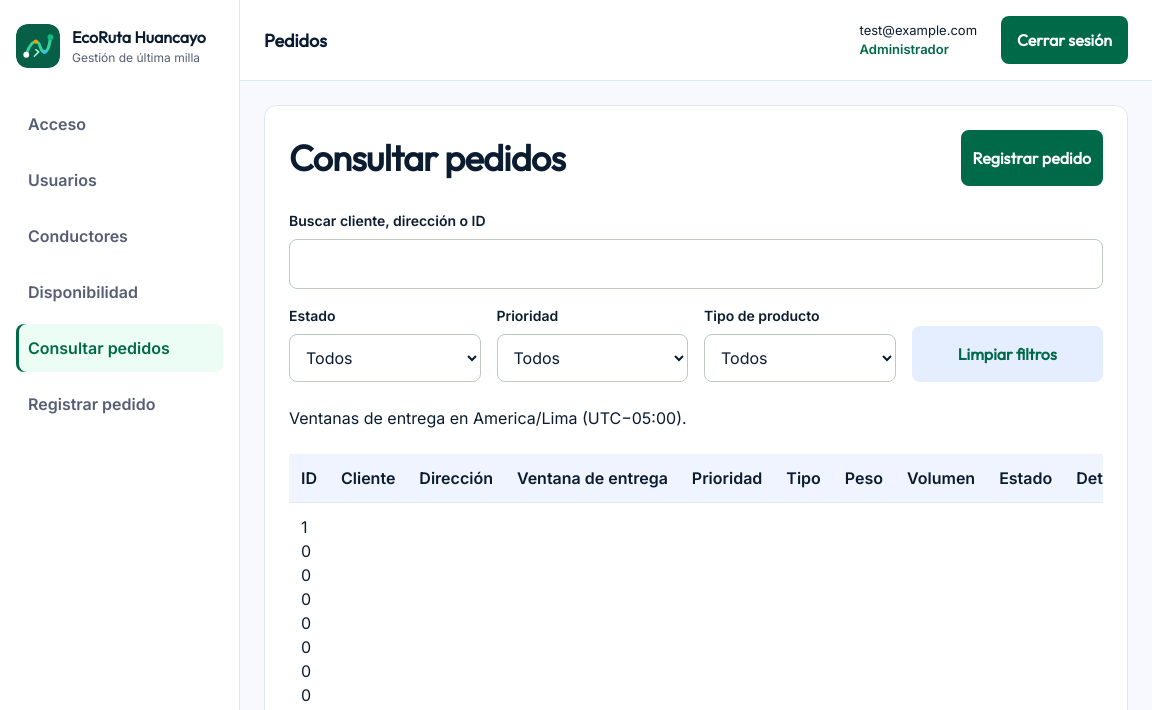
it: búsqueda con debounce, filtros combinados y limpiar filtros
The width and height of the screenshot is (1152, 710).
Type "Mantaro" into the search field labelled "Buscar cliente, dirección o ID" at x=696, y=264, box [289, 239, 1103, 289]
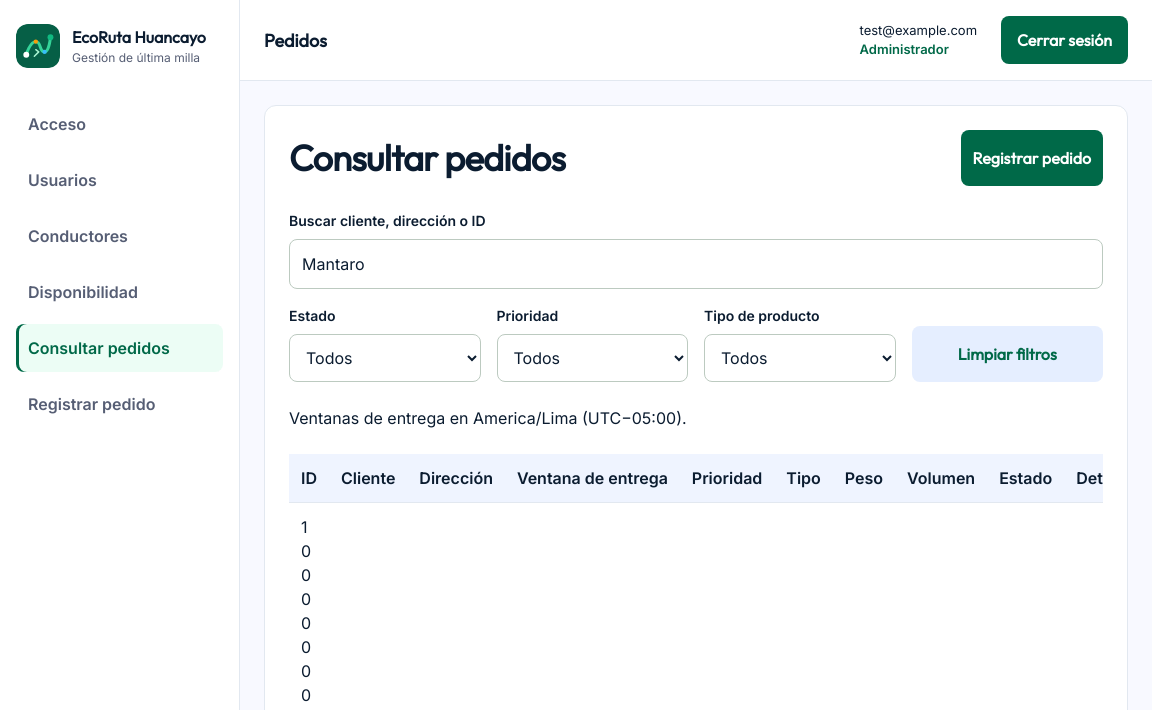
Select "Pendiente" in the dropdown labelled "Estado" at x=385, y=358, box [289, 334, 480, 382]
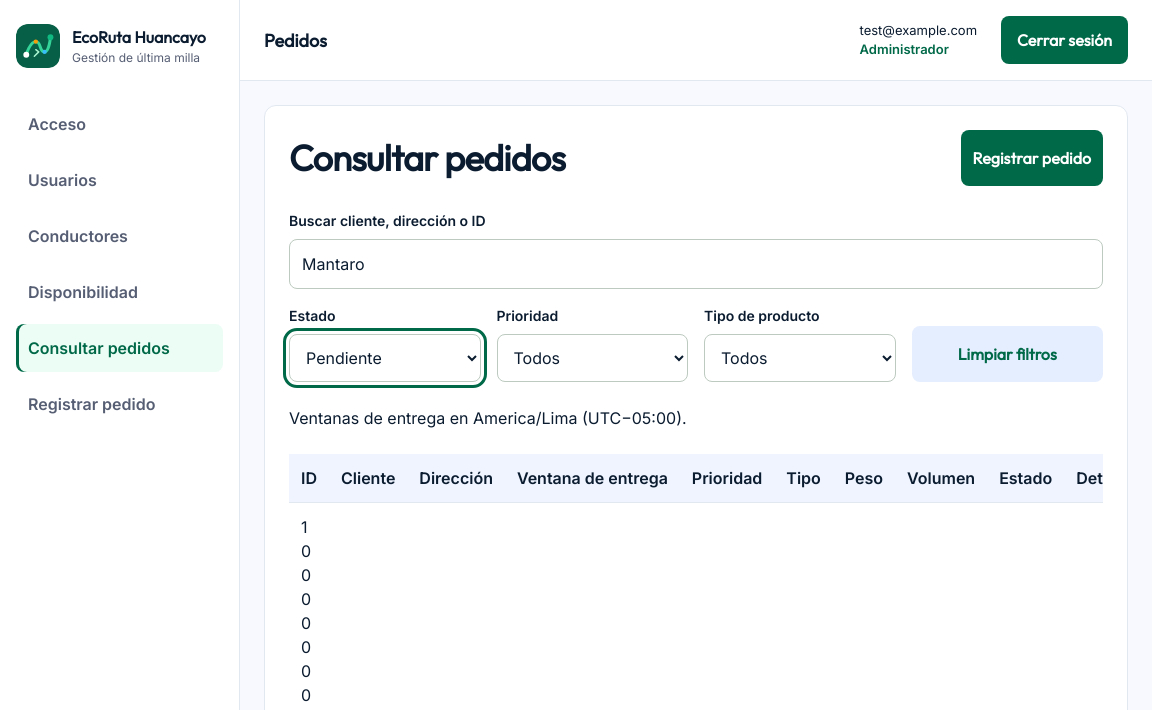
Select "Estándar" in the dropdown labelled "Prioridad" at x=592, y=358, box [496, 334, 688, 382]
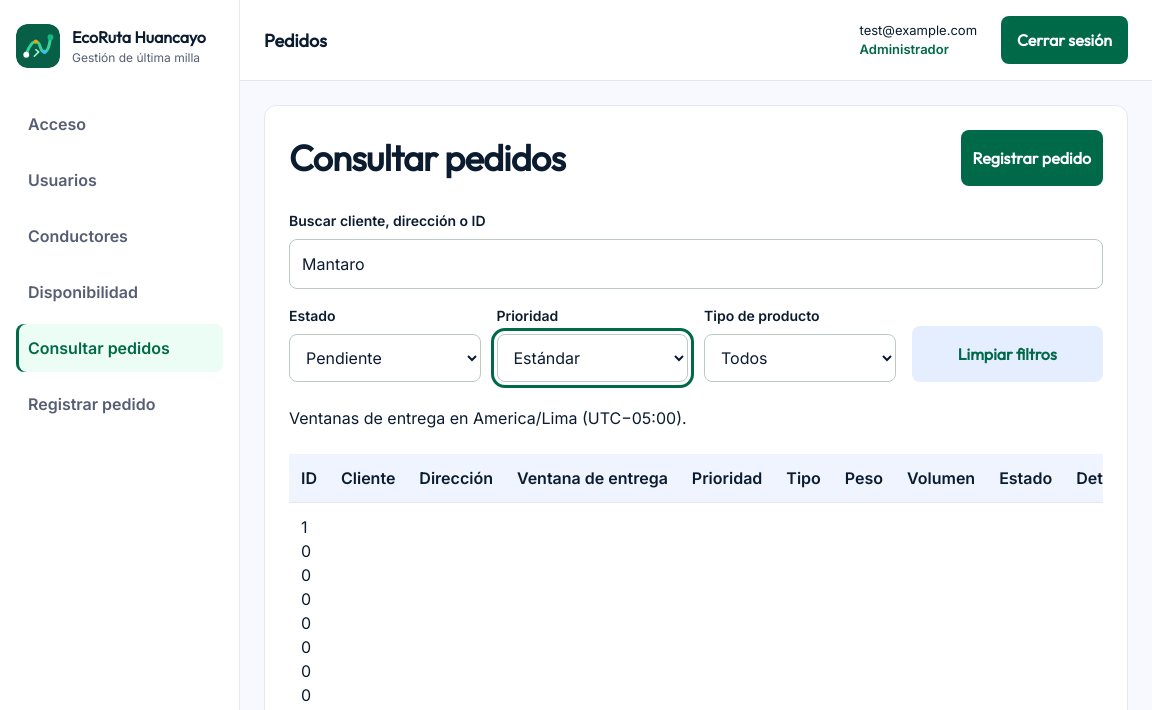
Select "No perecedero" in the dropdown labelled "Tipo de producto" at x=800, y=358, box [704, 334, 896, 382]
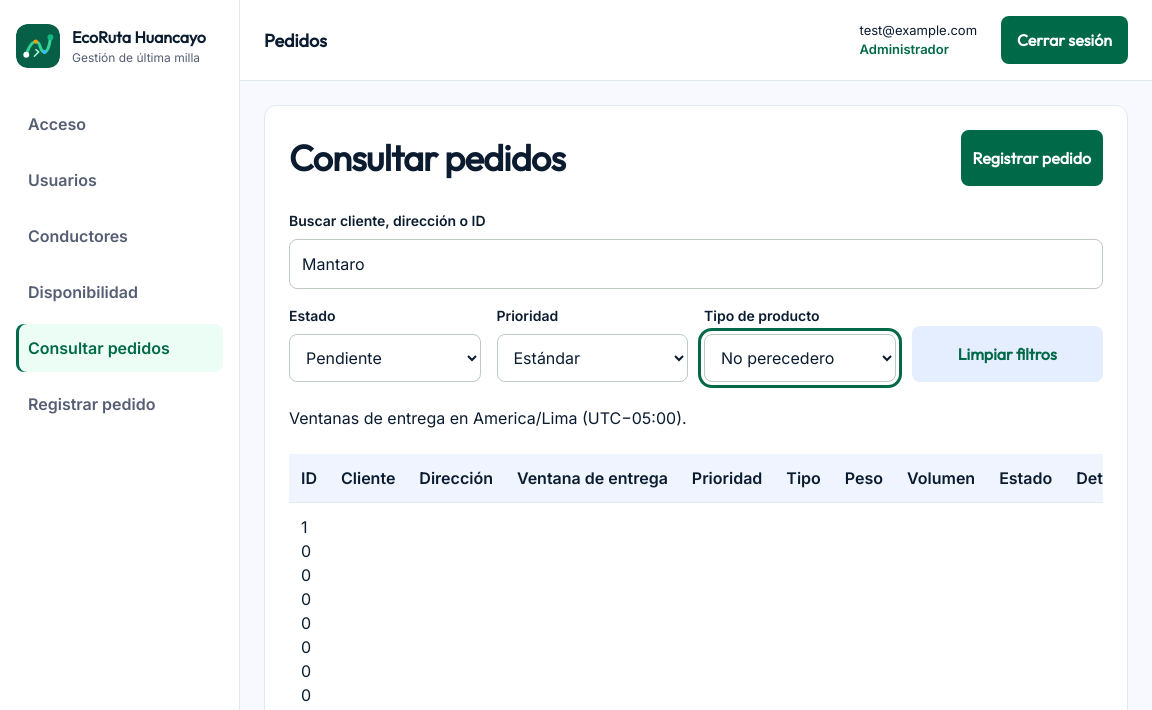
Select "Express" in the dropdown labelled "Prioridad" at x=592, y=358, box [496, 334, 688, 382]
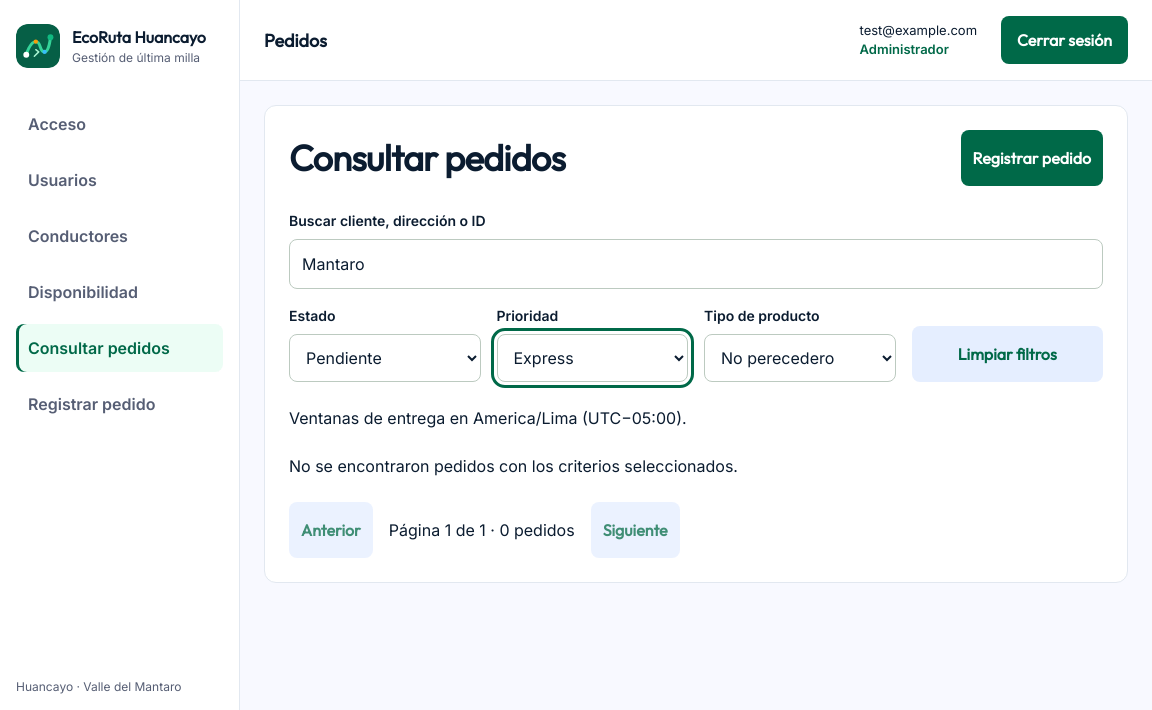
Now the text "No se encontraron pedidos con los criterios seleccionados." is shown, box [289, 456, 738, 476]
Click the button "Limpiar filtros" at x=1007, y=354, box [912, 326, 1103, 382]
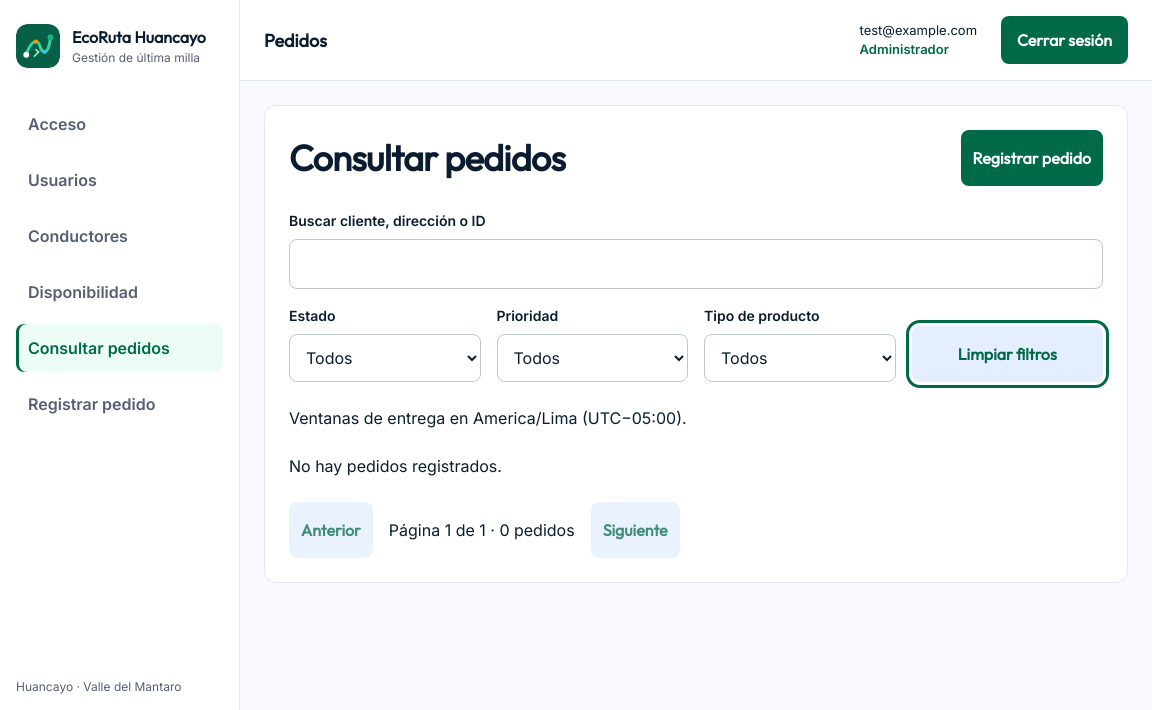
Now the search field labelled "Buscar cliente, dirección o ID" is empty, box [289, 239, 1103, 289]
